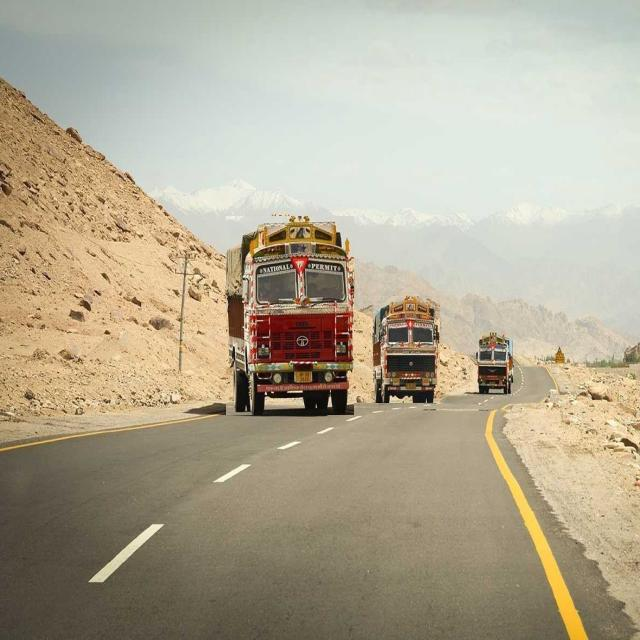truck: (226, 216, 354, 415), (373, 296, 439, 403), (476, 334, 514, 394)
